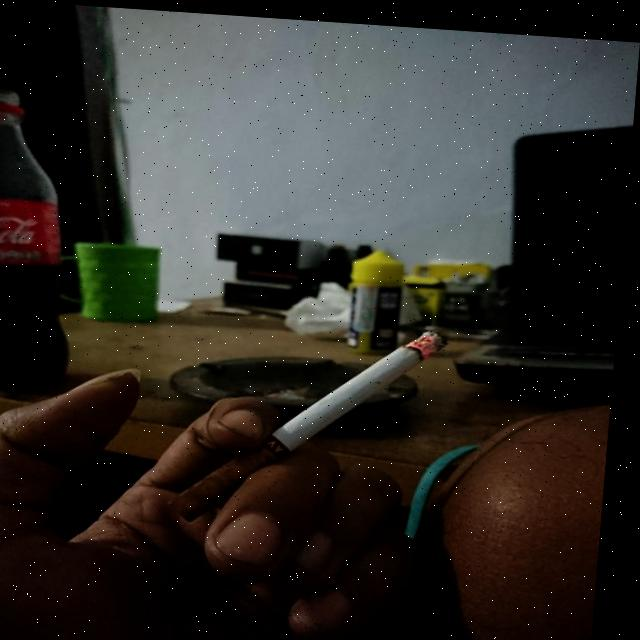cigarette: (184, 310, 452, 530)
